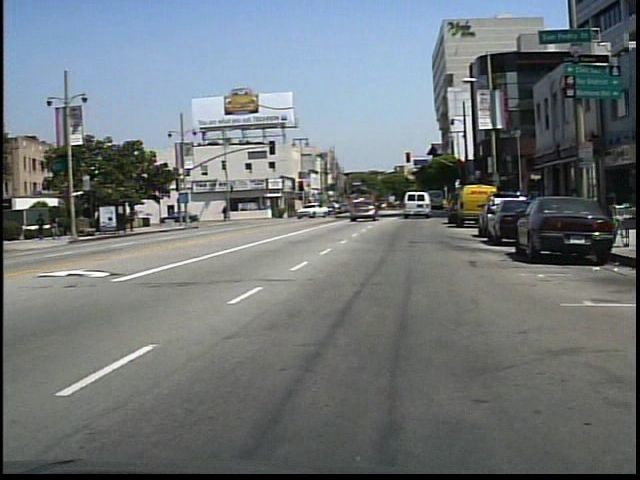person: (53, 214, 69, 245), (38, 212, 52, 242), (225, 205, 232, 224)
